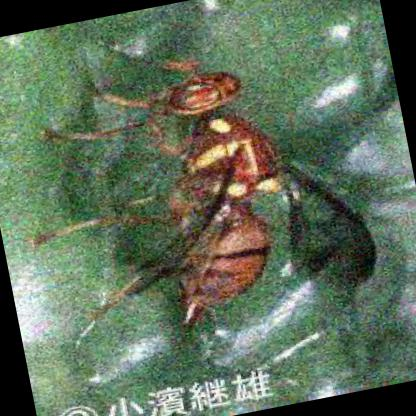fruit fly: (34, 69, 376, 332)
